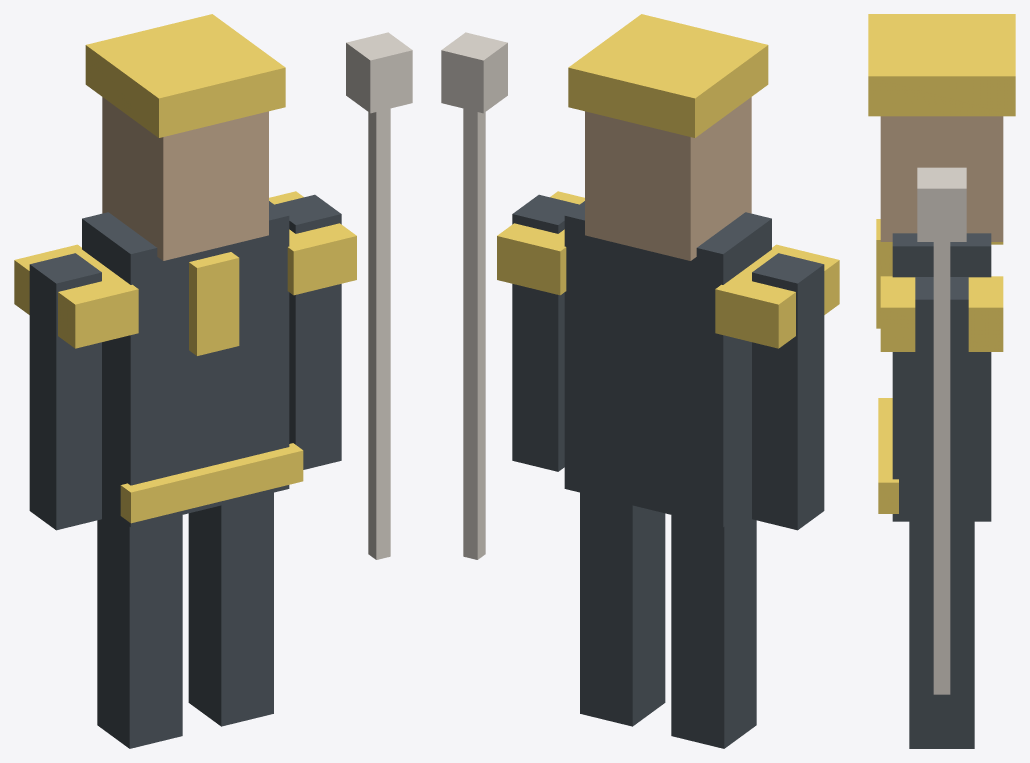
The model's file is 19_keir_glassroot_medic_near_deepwater.glb.
The picture shows the model from 3 angles, left to right: view 1: azimuth 30°, elevation 25°; view 2: azimuth 150°, elevation 25°; view 3: azimuth 270°, elevation 25°; orthographic projection.
Visible parts, largest first — view 1: Keir Glassroot, Medic near Deepwater; view 2: Keir Glassroot, Medic near Deepwater; view 3: Keir Glassroot, Medic near Deepwater.
Part boxes in pixels (x1,y1,x2,y2): Keir Glassroot, Medic near Deepwater: (14, 14, 412, 748); Keir Glassroot, Medic near Deepwater: (441, 14, 839, 748); Keir Glassroot, Medic near Deepwater: (868, 14, 1015, 748).
Size of the model in its own units: 0.9674 by 1.71 by 0.3431.
